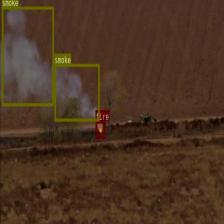fire: (96, 120, 104, 138)
smoke: (1, 7, 54, 106), (54, 63, 100, 121)
